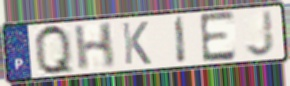E: (197, 9, 238, 65)
H: (72, 21, 117, 73)
I: (173, 15, 188, 66)
J: (243, 8, 277, 58)
K: (120, 20, 153, 66)
Q: (32, 22, 77, 77)
